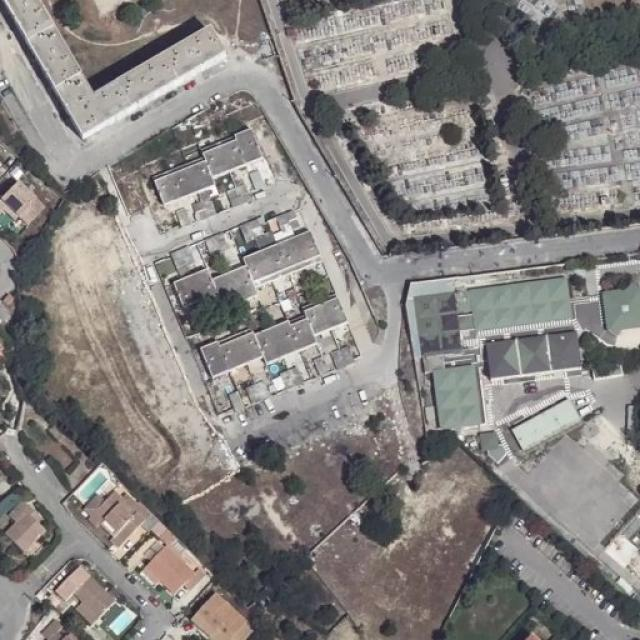immeuble: (170, 224, 252, 318), (251, 205, 340, 290), (124, 522, 199, 604), (205, 338, 283, 416), (66, 465, 139, 547), (146, 135, 221, 214), (203, 117, 266, 200), (306, 298, 364, 379), (52, 559, 118, 630), (264, 318, 322, 394), (184, 579, 243, 640), (0, 503, 67, 550)
maison: (0, 155, 70, 233)
piscine: (69, 453, 109, 510), (108, 597, 136, 640), (266, 356, 285, 379)
usine: (388, 270, 640, 554)
